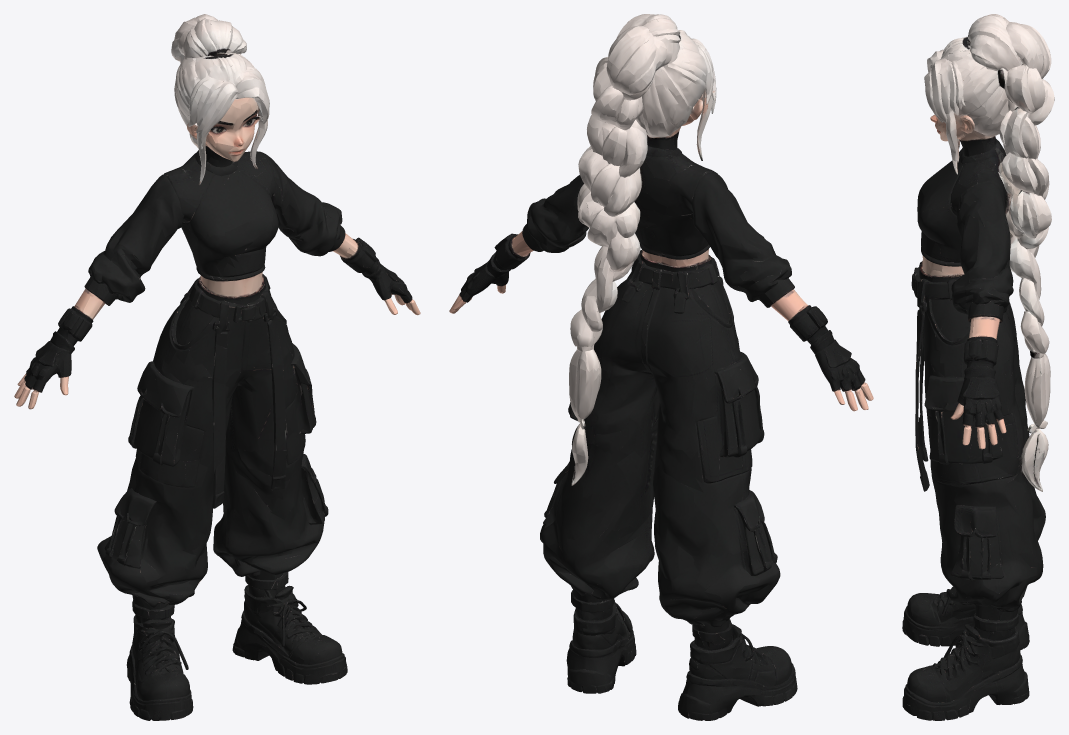
Rendered from nr_rider_v2.glb.
The picture shows the model from 3 angles, left to right: view 1: azimuth 30°, elevation 25°; view 2: azimuth 150°, elevation 25°; view 3: azimuth 270°, elevation 25°; orthographic projection. The views are drawn at different scales.
Size of the model in its own units: 1.22 by 1.9 by 0.4006.
Materials: 1 (1 with a texture image).
